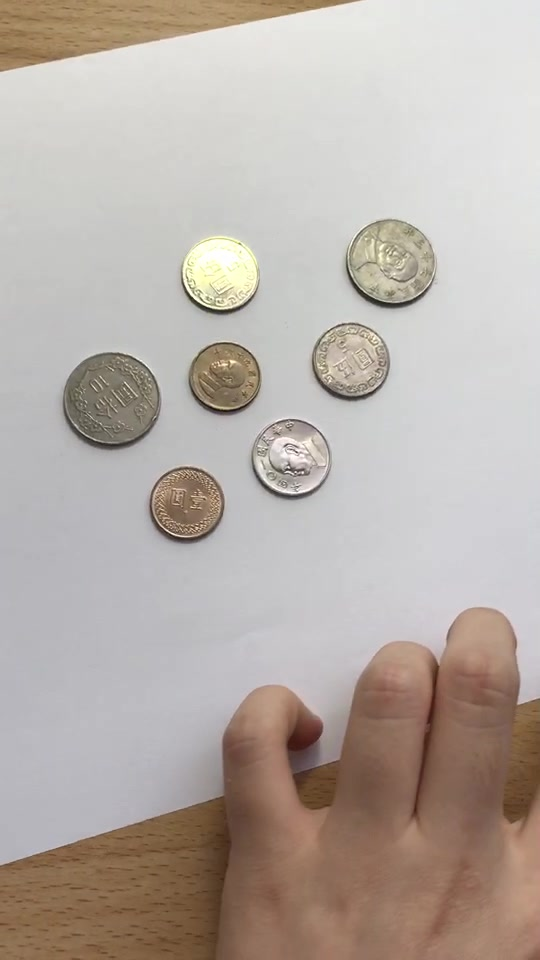1 dallar: (146, 458, 228, 547), (181, 331, 263, 420)
10 dallar: (59, 340, 173, 456), (330, 199, 444, 315)
5 dallar: (179, 222, 268, 324), (303, 311, 392, 413), (244, 410, 334, 499)
